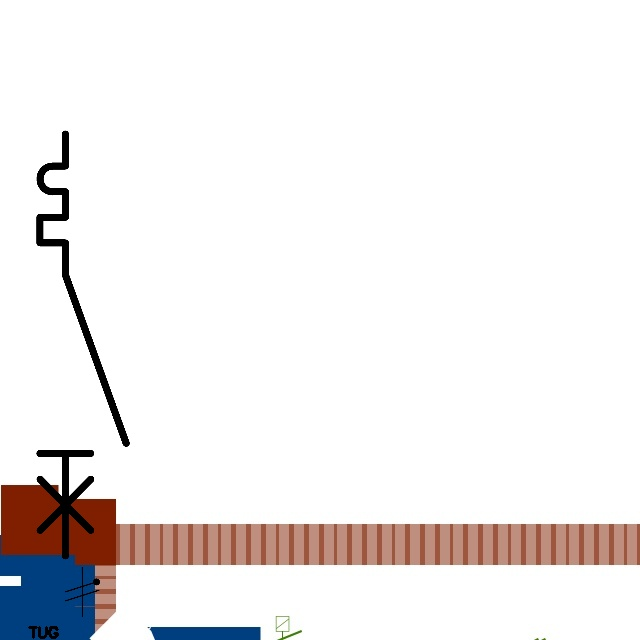interruptor_termomagnetico: (29, 123, 137, 567)
